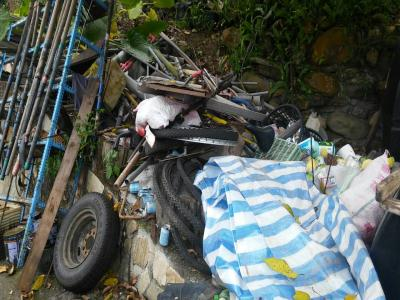bottle: (159, 222, 171, 247)
plastic_bag: (197, 155, 379, 300)
tire: (51, 189, 122, 295), (152, 127, 239, 142)
